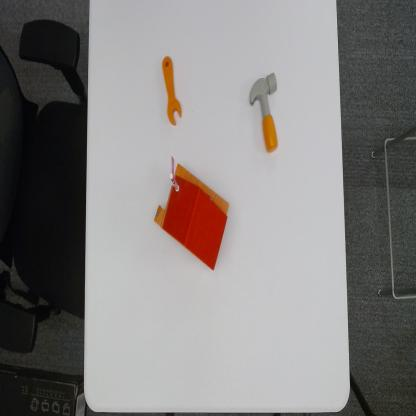Hammer: (249, 71, 281, 154)
House: (152, 153, 230, 274)
Screwdriver: (161, 54, 183, 129)
